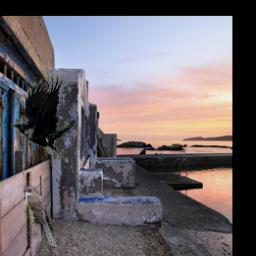Crow: (10, 74, 76, 159)
Cuckoo: (23, 187, 57, 249)
